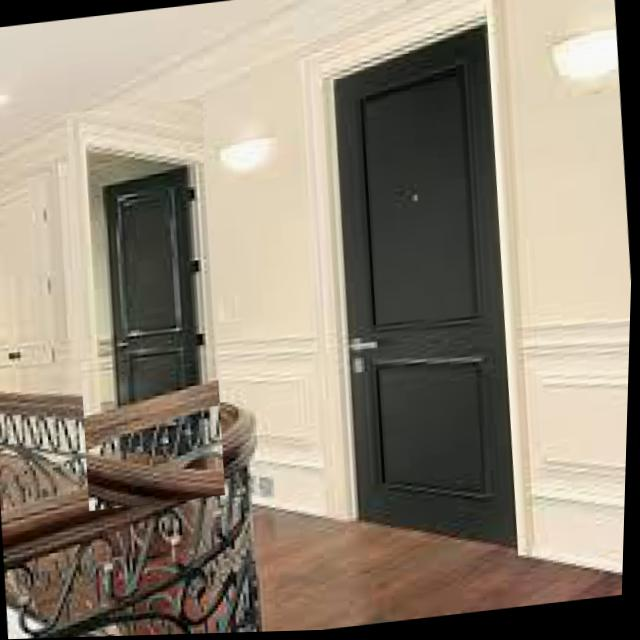close: (303, 0, 558, 579)
semi-open: (58, 98, 238, 513)
